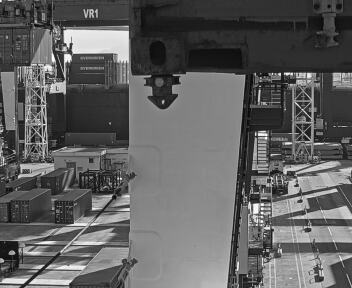twist_lock_2: (175, 70, 225, 114)
